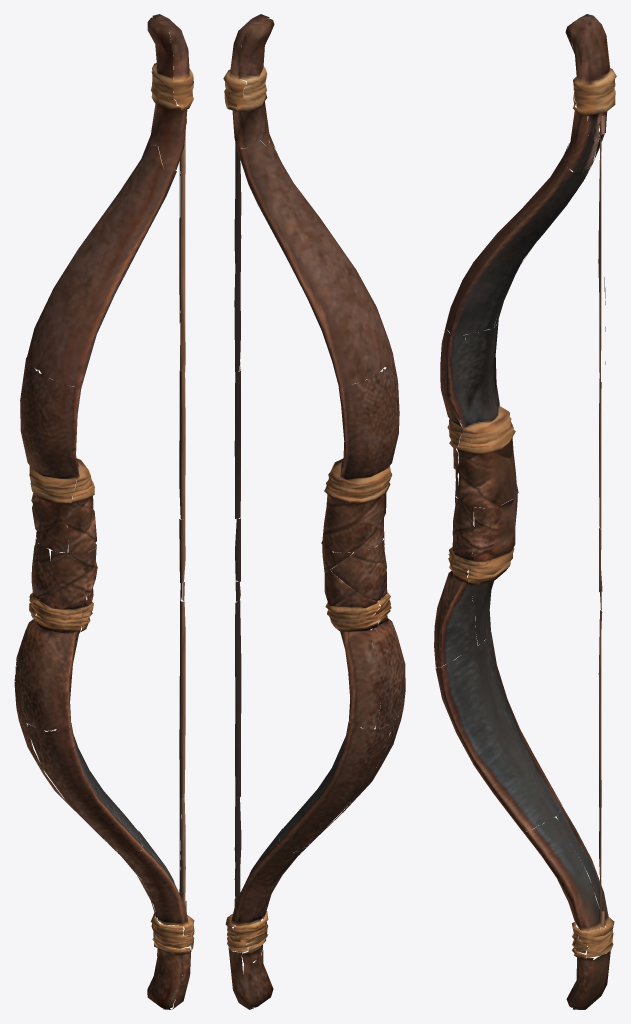
Rendered from bow.glb.
3 views of the same model, side by side, from view 1: azimuth 30°, elevation 25°; view 2: azimuth 150°, elevation 25°; view 3: azimuth 330°, elevation 25° (orthographic).
Visible parts, largest first — view 1: bow; view 2: bow; view 3: bow.
Boxes of the visible parts, box(x1,y1,x2,y2) form: bow: box(14, 14, 194, 1009); bow: box(223, 14, 405, 1009); bow: box(434, 14, 616, 1009).
Bounding box in the file's own units: 0.2707 × 1.53 × 0.1368.
Materials: 1 (1 with a texture image).
